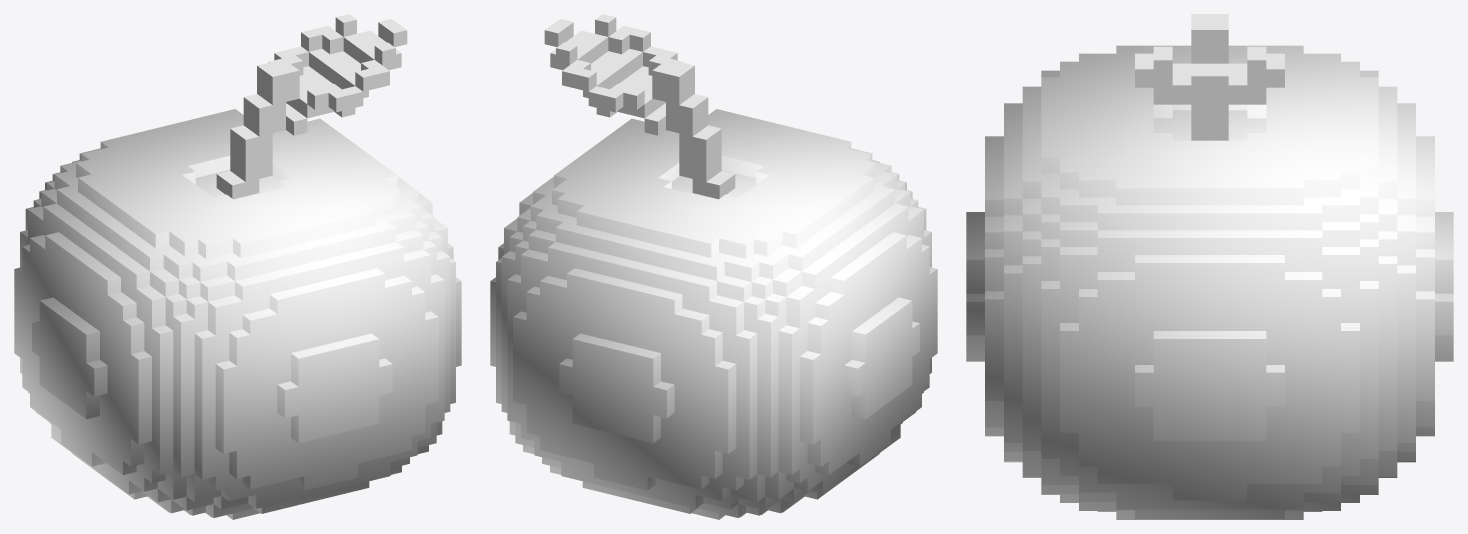
File: apple.obj
The picture shows the model from 3 angles, left to right: view 1: azimuth 30°, elevation 25°; view 2: azimuth 150°, elevation 25°; view 3: azimuth 270°, elevation 25°; orthographic projection. The views are drawn at different scales.
Visible parts, largest first — view 1: apple; view 2: apple; view 3: apple.
Part boxes in pixels (left/top/right/bottom): apple: left=14, top=14, right=461, bottom=519; apple: left=490, top=14, right=937, bottom=519; apple: left=966, top=14, right=1453, bottom=519.
Bounding box in the file's own units: 0.8125 × 0.9375 × 0.8125.
